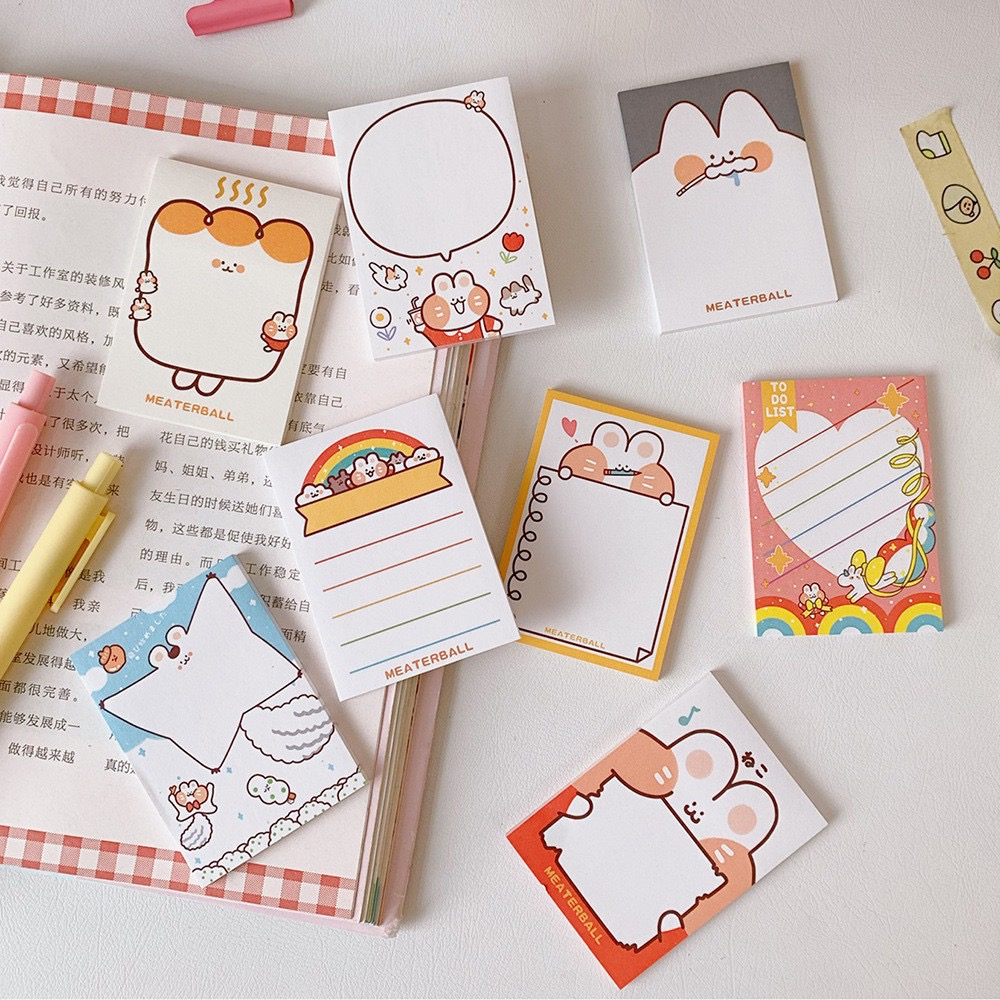paper: (506, 669, 830, 993), (67, 554, 368, 892), (261, 393, 522, 702), (94, 155, 343, 448), (325, 76, 559, 366), (616, 59, 843, 340), (527, 390, 724, 684), (740, 372, 948, 644)
